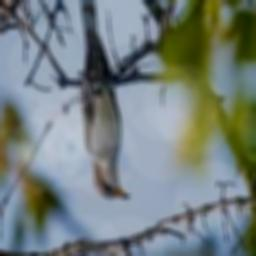Cuckoo: (79, 0, 131, 201)
